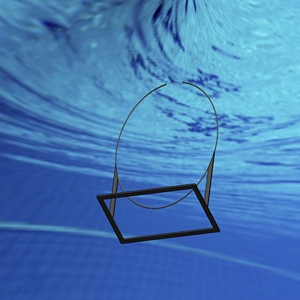circle: (95, 78, 222, 245)
